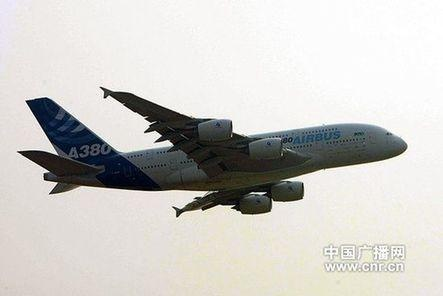airplane: (13, 83, 408, 213)
